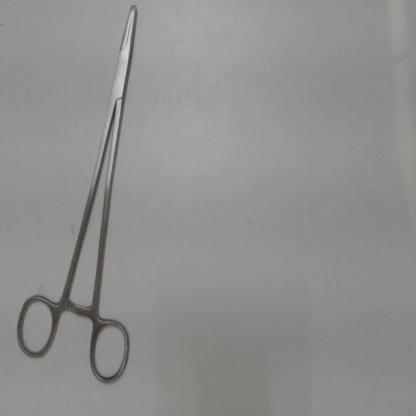8 Mayo Needle Holder: (6, 2, 145, 393)
